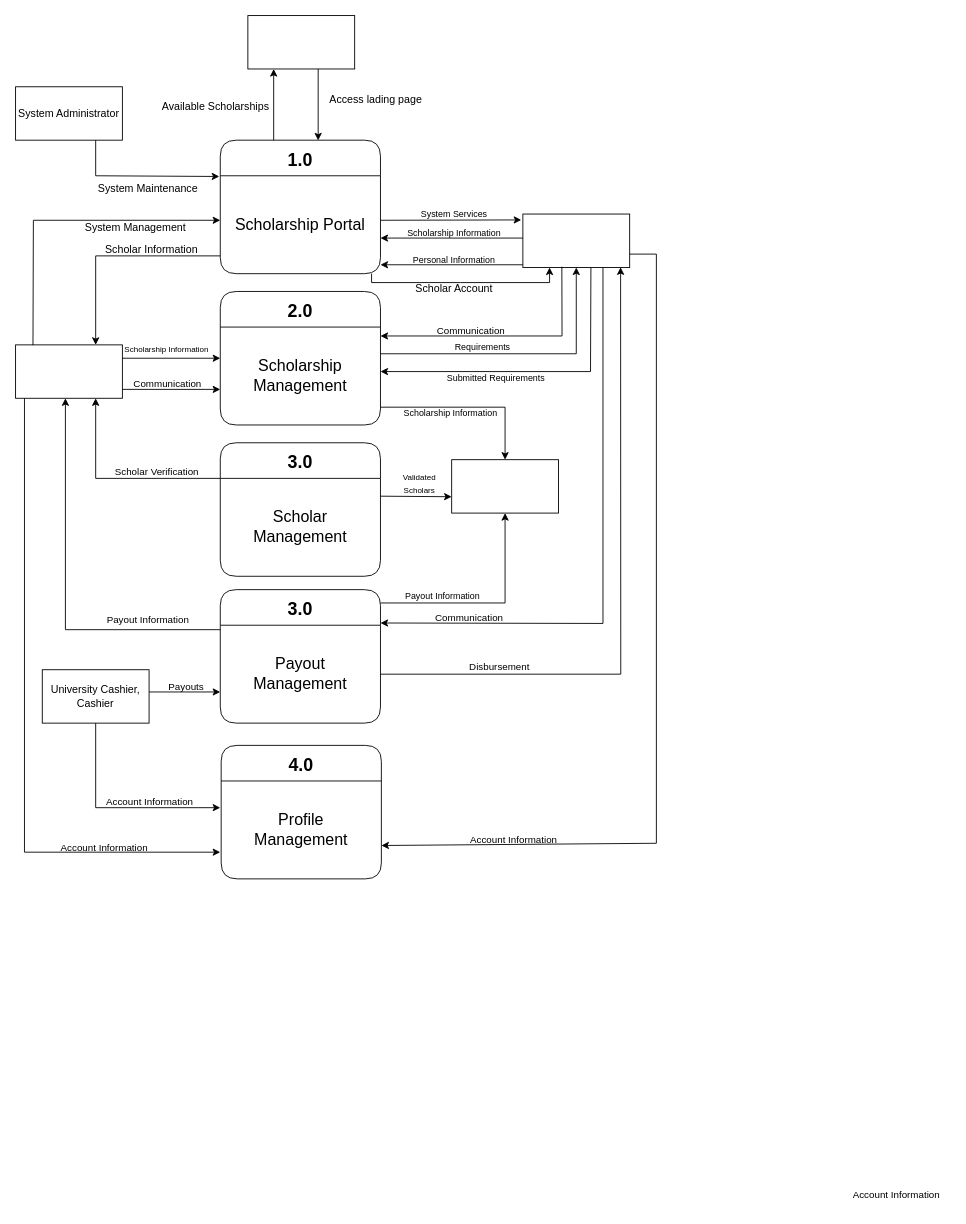
This 966x1224 diagram has some shape labels left out. Here are the shapes that lost their labels. From the top down, the box of each, then its label:
(247, 15, 355, 69): Guest
(522, 213, 630, 267): Student, Scholars
(15, 344, 122, 398): Scholarship Head Administrator, Campus Coordinator
(451, 459, 558, 513): Sponsor/Donor
